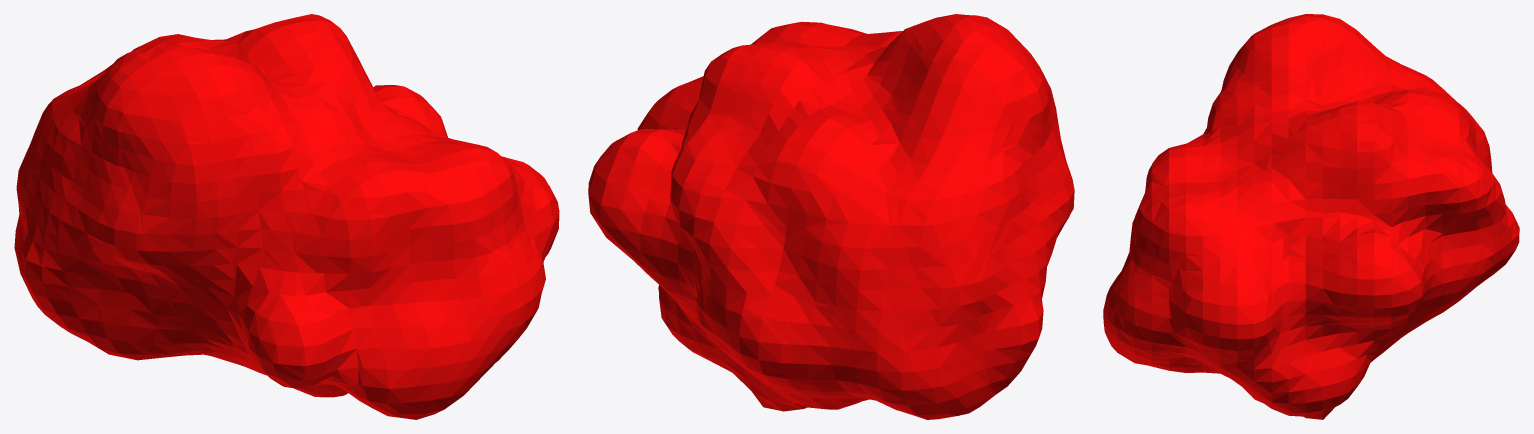
The model's file is yfeX_coarse.dae.
3 renders of one model, left to right at view 1: azimuth 30°, elevation 25°; view 2: azimuth 150°, elevation 25°; view 3: azimuth 270°, elevation 25°, orthographic. The views are drawn at different scales.
Visible parts, largest first — view 1: yfeX; view 2: yfeX; view 3: yfeX.
Boxes of the visible parts, box(x1,y1,x2,y2) form: yfeX: box(14, 14, 559, 419); yfeX: box(588, 14, 1074, 419); yfeX: box(1103, 14, 1519, 419).
Size of the model in its own units: 58.68 by 48.77 by 56.12.
